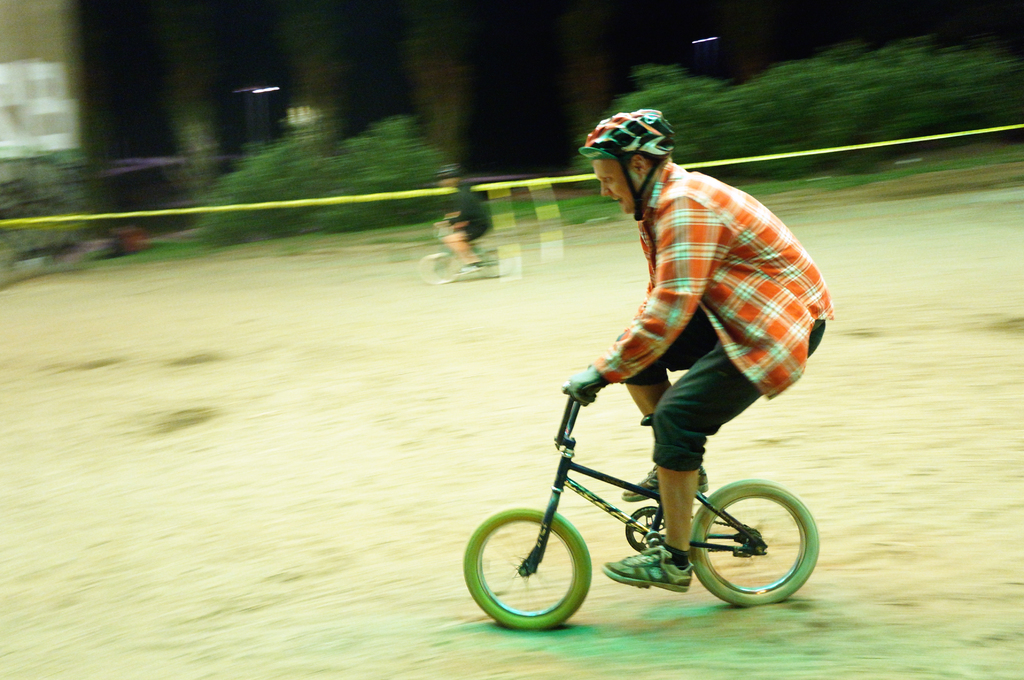Person: (568, 109, 834, 593), (432, 161, 488, 275)
